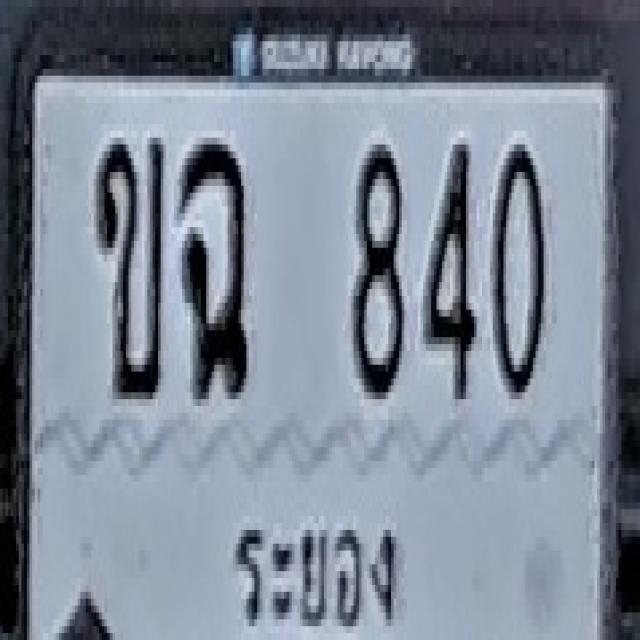-: (94, 134, 163, 396), (180, 134, 247, 396)
0: (491, 138, 545, 392)
4: (423, 138, 474, 399)
8: (352, 138, 403, 392)
RYG: (224, 485, 408, 640)
